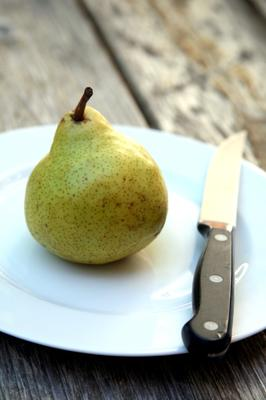pear: (0, 0, 266, 400)
